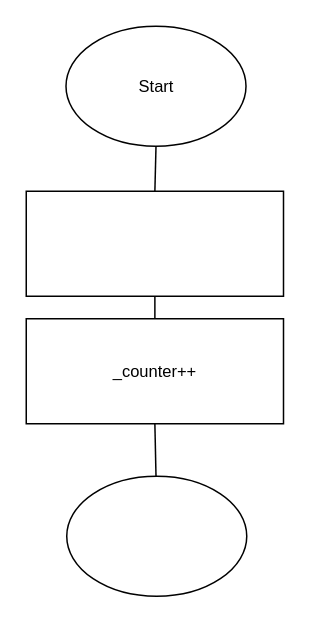
This 311x623 diagram has some shape labels left out. Here are the shapes that lost their labels. From the top down, the box of each, then its label:
(25, 190, 284, 296): _collection[_counter] = record
(65, 475, 247, 596): End
